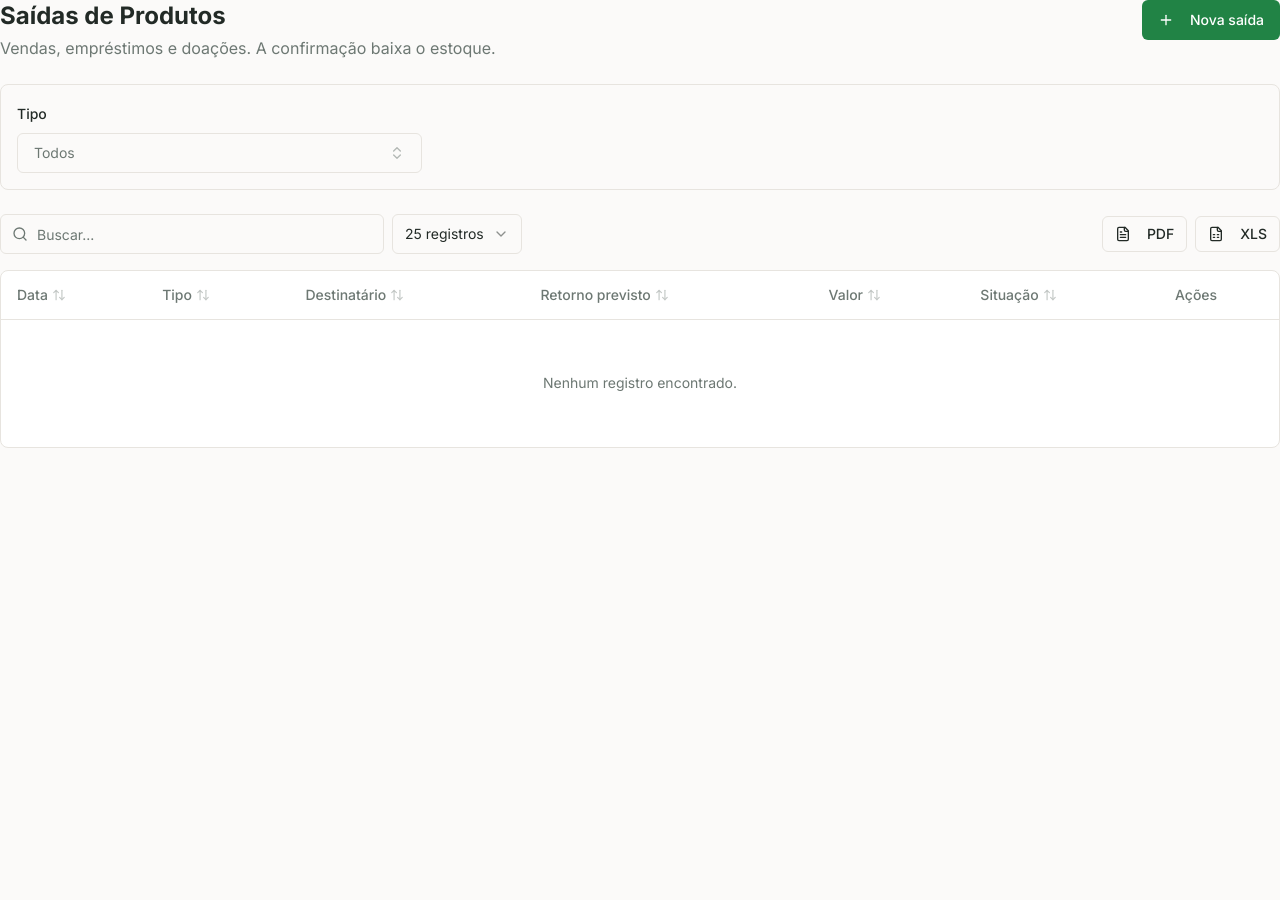
Saídas de produtos › empréstimo exige data prevista de retorno
The width and height of the screenshot is (1280, 900).
Click the button "Nova saída": [1211, 20] box [1142, 0, 1279, 40]
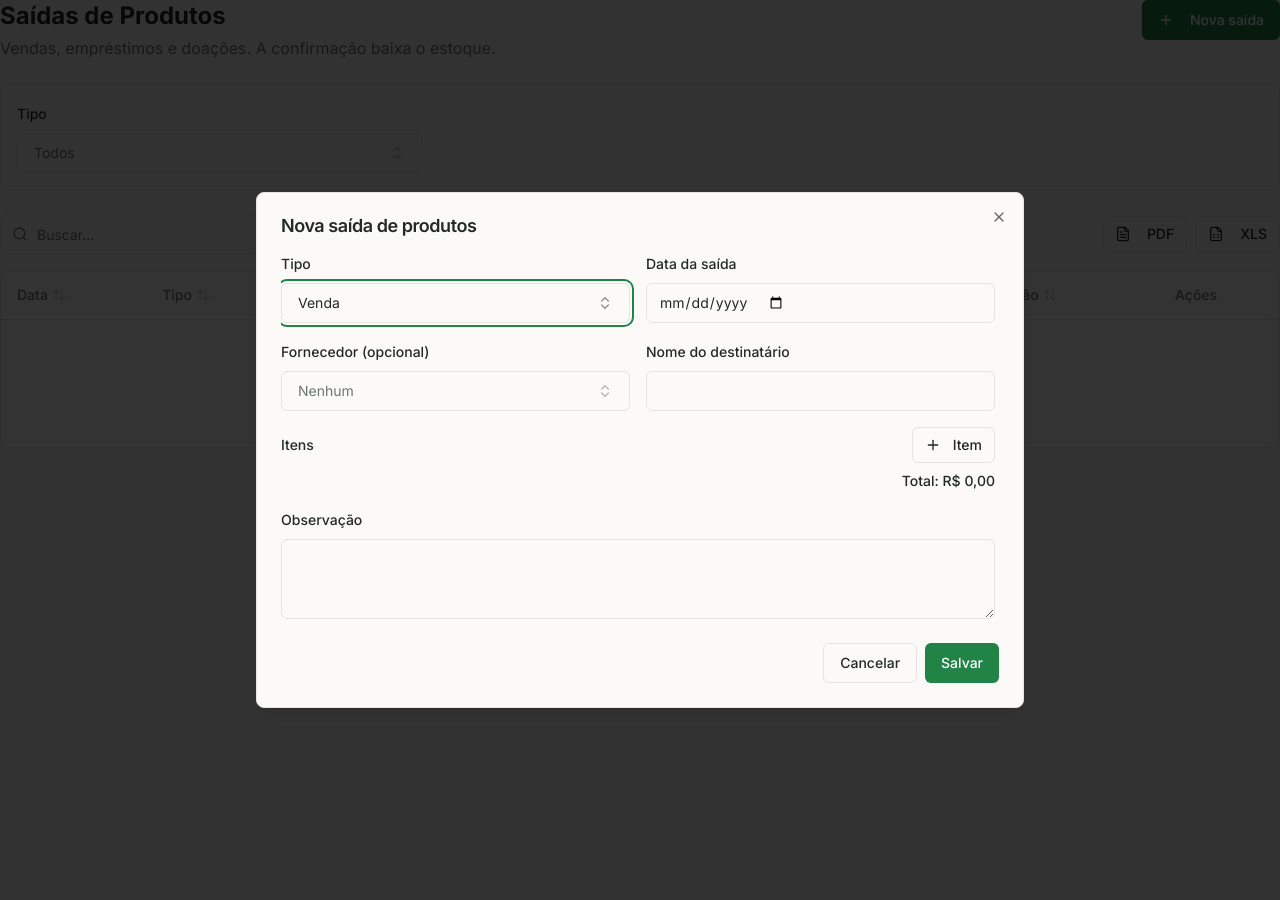
Click the button "Salvar": [962, 663] box [925, 643, 999, 683]
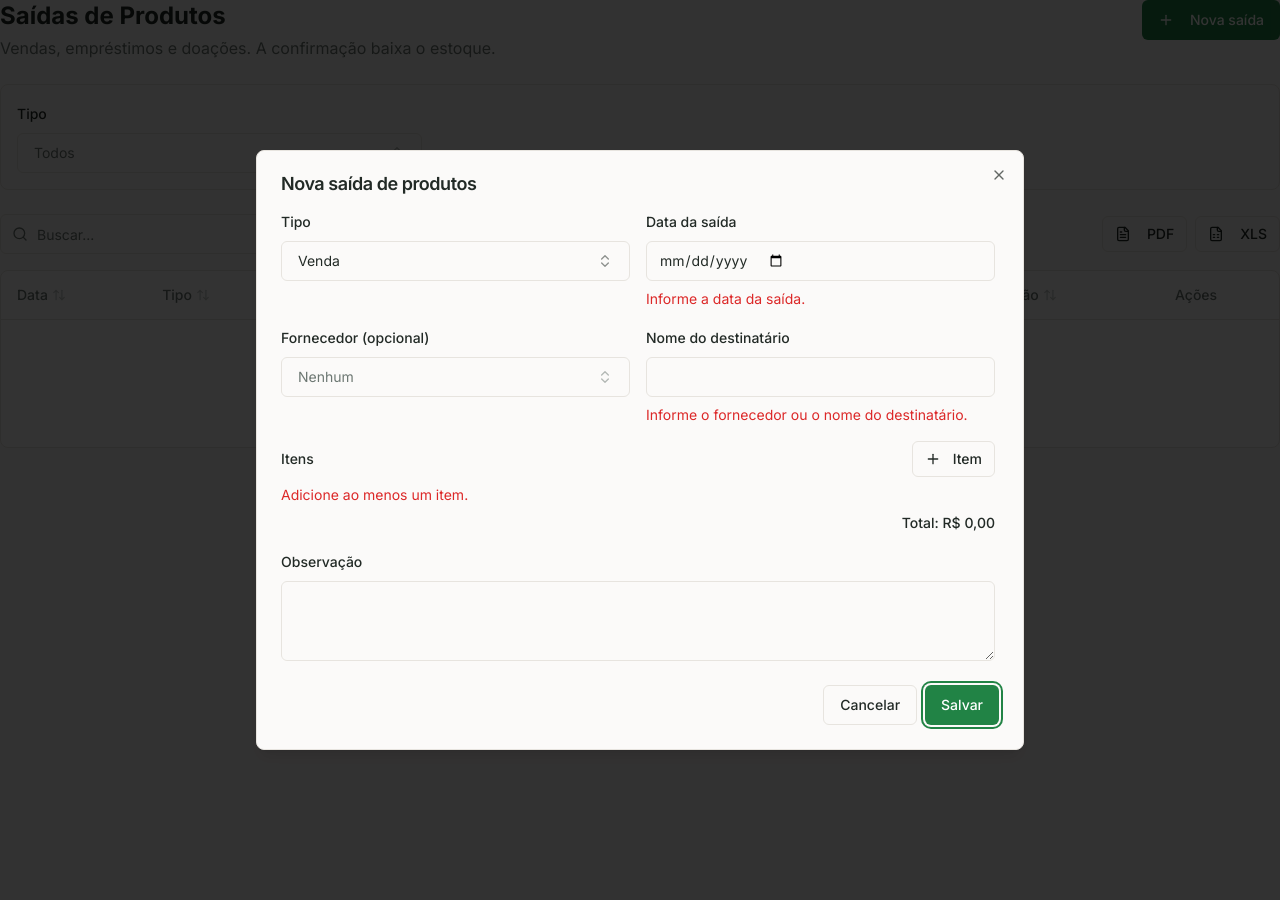
Expected: the text "Informe a data da saída." is shown, [646, 290, 805, 307]
Expected: the text "Adicione ao menos um item." is shown, [281, 486, 468, 503]
